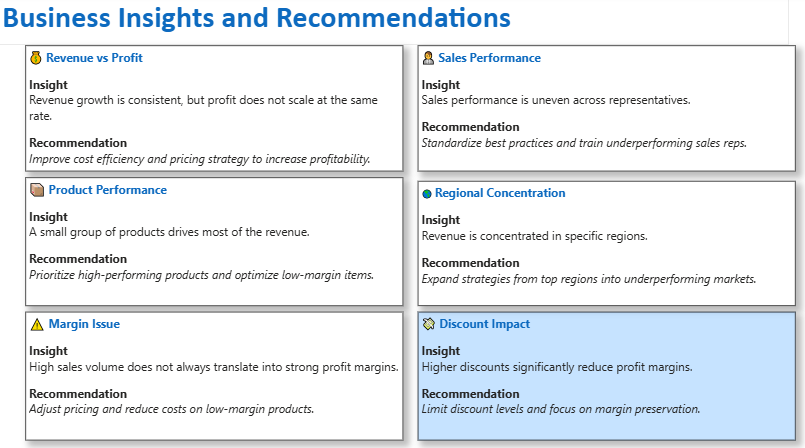

The dashboard page shown, as its layout file describes it:
{"tool":"powerbi","page":{"name":"Business Insights and Recommendations","canvas":[1280,720],"ordinal":5},"visuals":[{"type":"textbox","box":[0,0,1250.7,79.7],"z":0},{"type":"textbox","box":[662.4,79.7,597.8,199.3],"z":1000},{"type":"textbox","box":[41.8,79.7,597.8,199.3],"z":2000},{"type":"textbox","box":[41.8,288.5,597.8,203.1],"z":3000},{"type":"textbox","box":[662.4,294.2,597.8,197.4],"z":4000},{"type":"textbox","box":[41.8,501.1,597.8,203.1],"z":5000},{"type":"textbox","box":[662.4,501.1,597.8,203.1],"z":6000}]}

Visuals, with their boxes in screenshot pixels (x1, y1, x2, y2), scaled from the page's 1280x720 canvas onto the 805x448 screenshot:
textbox: Rect(0, 0, 787, 50)
textbox: Rect(417, 50, 793, 174)
textbox: Rect(26, 50, 402, 174)
textbox: Rect(26, 180, 402, 306)
textbox: Rect(417, 183, 793, 306)
textbox: Rect(26, 312, 402, 438)
textbox: Rect(417, 312, 793, 438)
